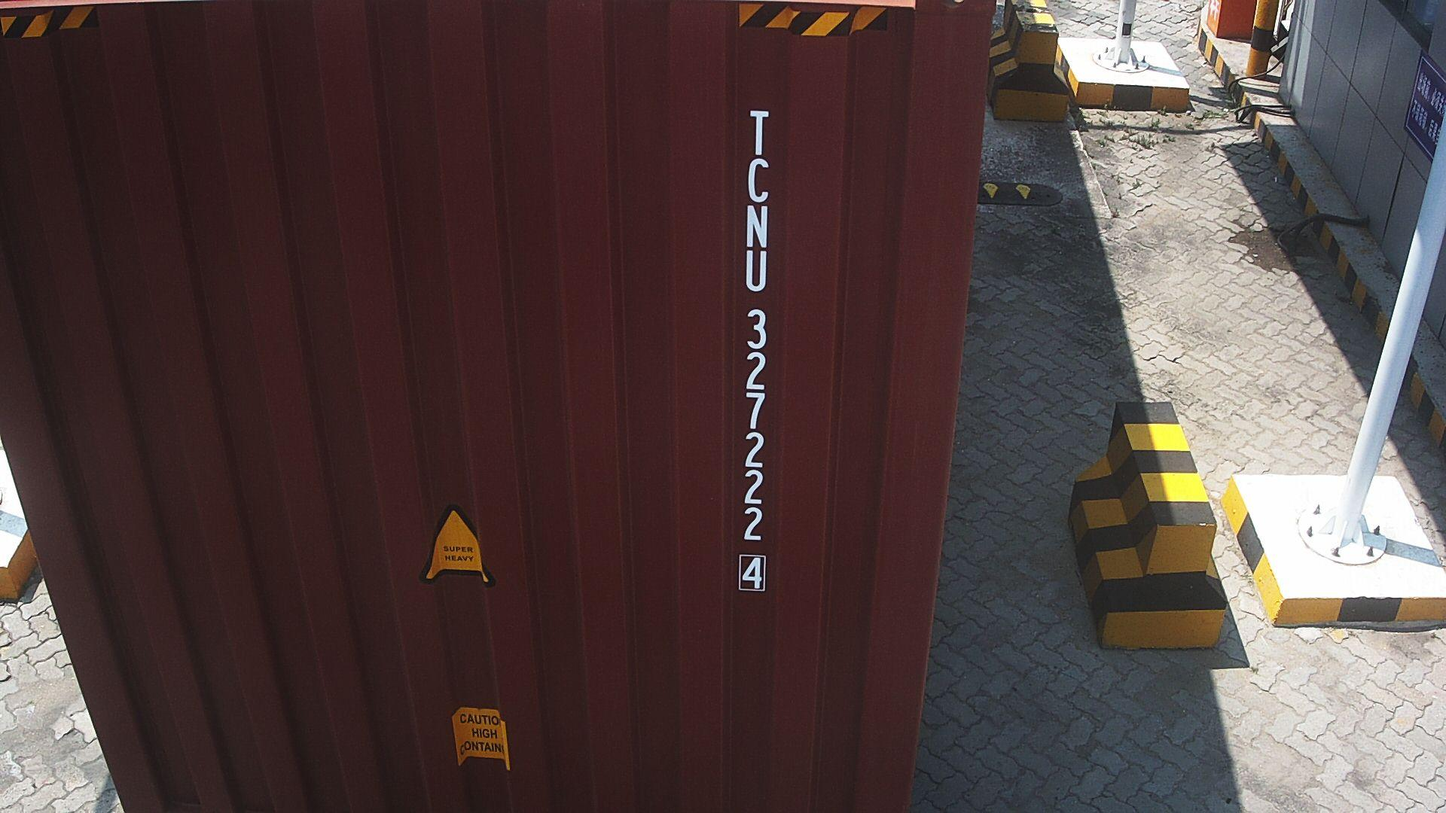container-numbers: (731, 105, 776, 598)
